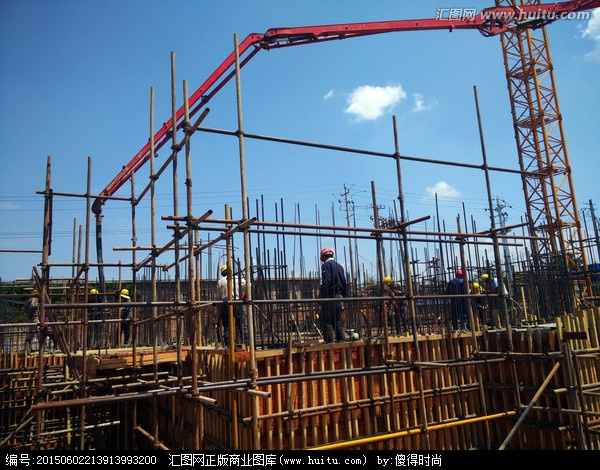red: (320, 247, 335, 263), (454, 269, 464, 279)
yellow: (220, 264, 232, 277), (471, 282, 481, 294), (383, 276, 393, 287), (120, 289, 129, 301), (90, 288, 99, 299), (481, 274, 490, 283)
